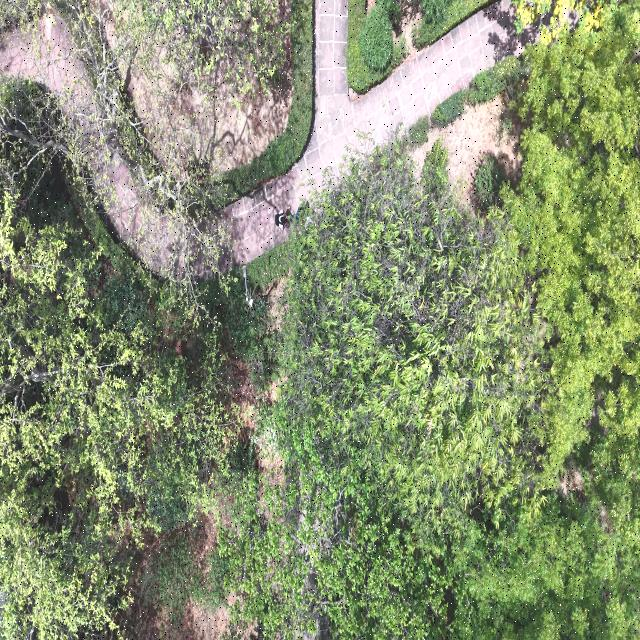DRY_AREA: (219, 0, 535, 269), (226, 1, 534, 262), (0, 8, 210, 275), (99, 0, 292, 178), (126, 533, 237, 639), (412, 95, 520, 202), (413, 95, 520, 202), (227, 355, 285, 520), (227, 357, 285, 520), (233, 369, 284, 437), (187, 594, 235, 639), (391, 0, 422, 63), (265, 276, 285, 327), (558, 463, 583, 496)
PATHWAYS: (219, 0, 536, 270), (226, 0, 536, 263)
VEGETATION_TREE: (0, 3, 639, 639), (229, 4, 639, 637), (227, 141, 539, 637), (0, 82, 256, 637), (0, 86, 243, 639), (458, 3, 639, 637), (283, 143, 543, 543), (1, 1, 311, 314), (0, 1, 229, 314), (503, 5, 639, 461), (111, 0, 312, 218), (452, 426, 639, 639), (215, 0, 312, 205), (110, 0, 289, 103), (346, 0, 487, 92), (135, 510, 233, 628), (138, 524, 230, 629), (208, 270, 281, 393), (430, 55, 528, 127), (139, 526, 207, 624), (346, 0, 404, 92), (510, 0, 610, 43), (411, 0, 487, 47), (463, 55, 527, 104), (358, 0, 392, 71), (246, 240, 293, 289), (472, 153, 503, 209), (430, 89, 466, 127), (407, 116, 429, 146)
